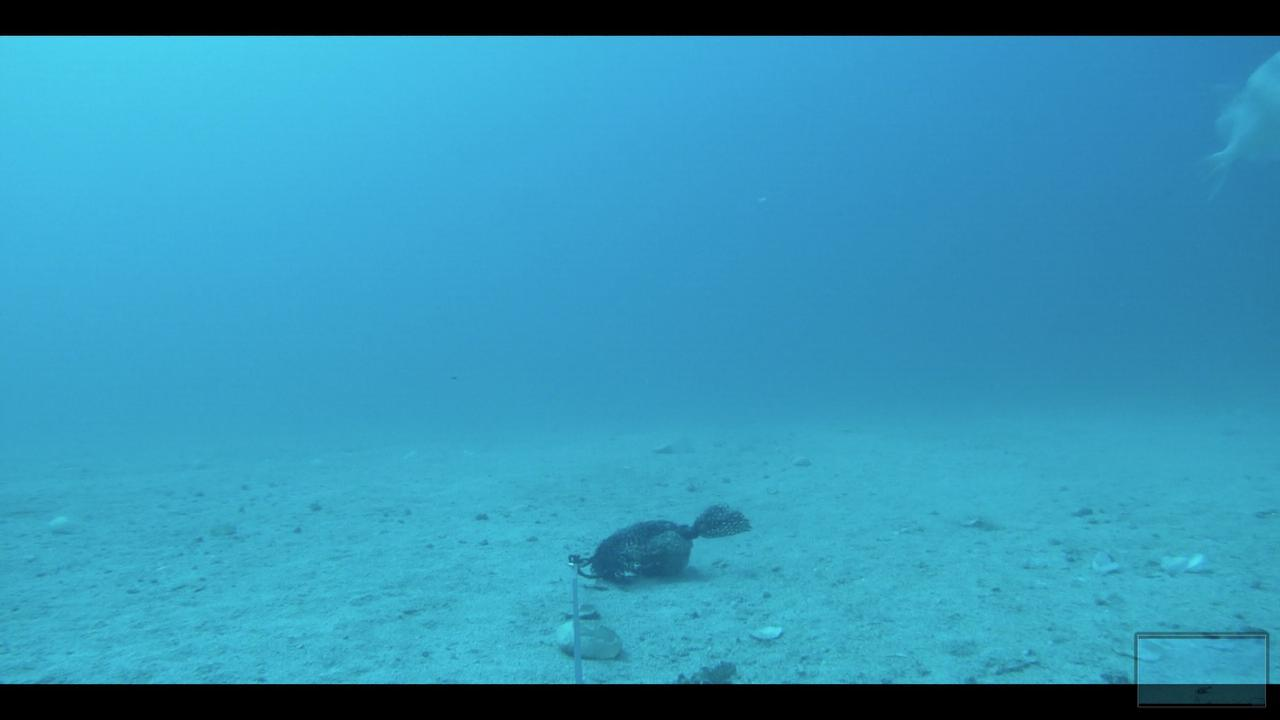balistes: (1182, 48, 1279, 202)
